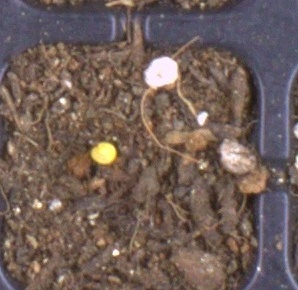chilli seed: (89, 141, 117, 165)
